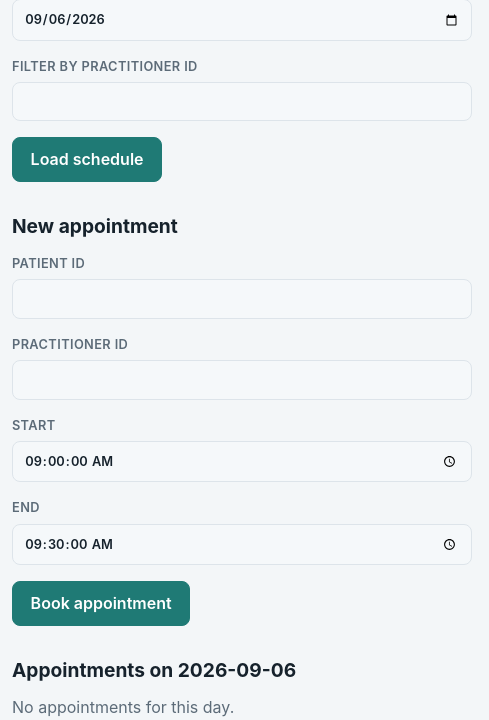
Test: Schedule create-appointment form validation and request mapping › rejects submission with no patient or practitioner id
(page scrolled)
Expected: the text "No appointments for this day." is shown, x1=12 y1=697 x2=234 y2=717
Click the button "Book appointment": (101, 604) x1=12 y1=581 x2=190 y2=626
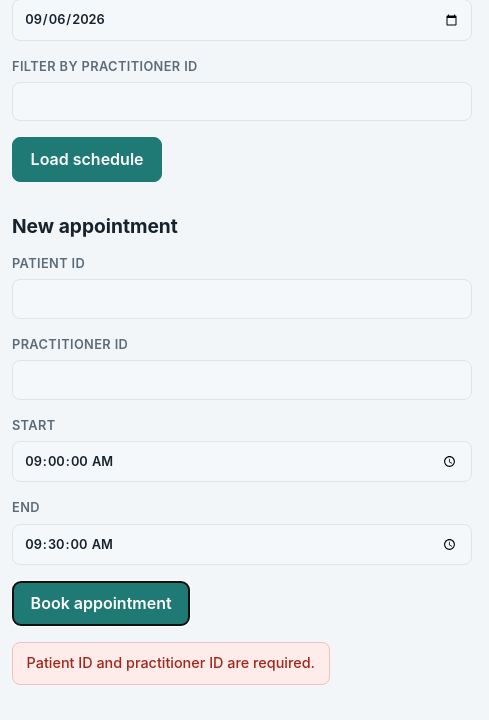
Expected: the text "Patient ID and practitioner ID are required." is shown, x1=12 y1=642 x2=330 y2=685
